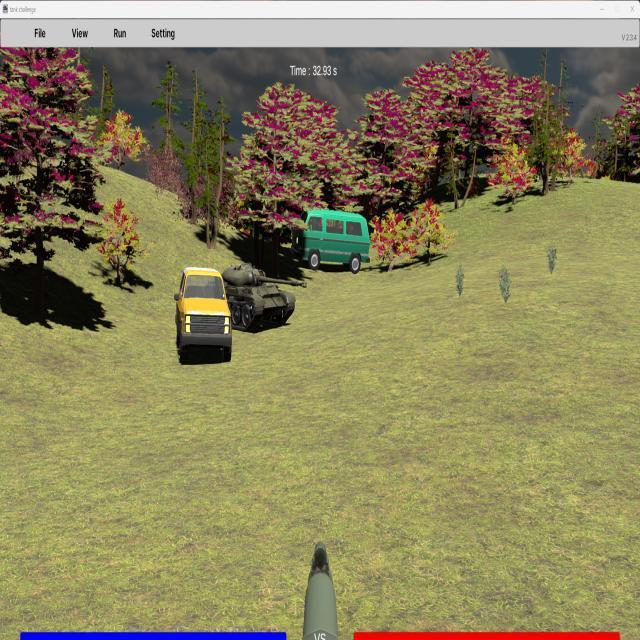Tank: (196, 262, 307, 333)
car: (174, 266, 232, 361), (289, 209, 370, 273)
